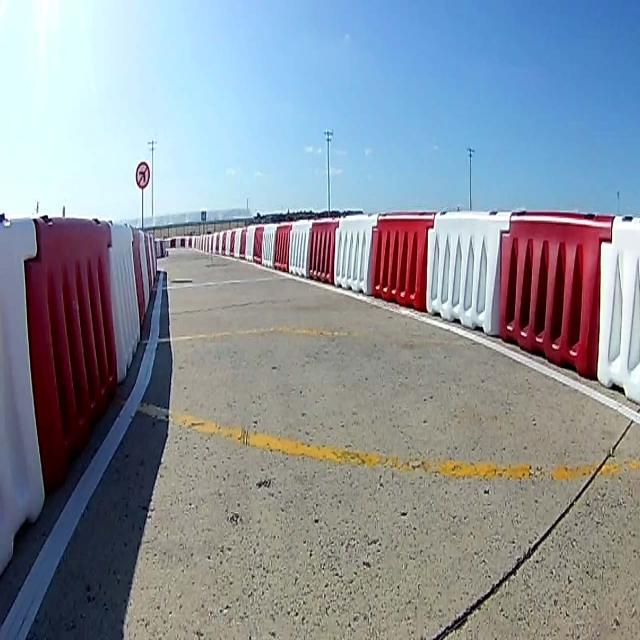soladonulmez: (136, 160, 150, 191)
